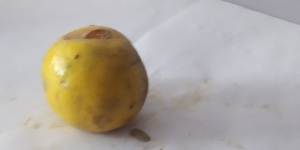BAD: (39, 23, 149, 135)
